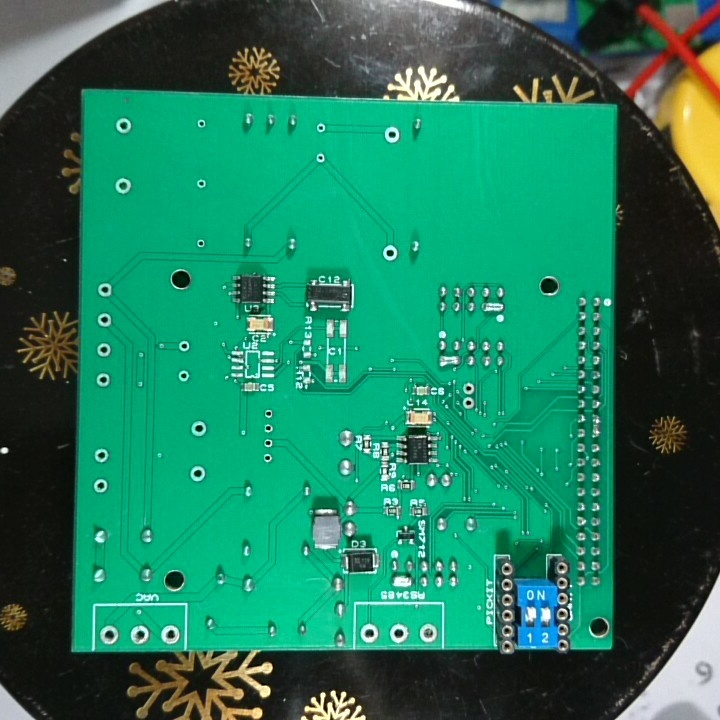F: (158, 622, 182, 646), (359, 620, 383, 644), (128, 624, 153, 646), (388, 621, 411, 644), (187, 418, 211, 439), (98, 624, 122, 645), (418, 621, 439, 644), (381, 123, 402, 145), (113, 116, 135, 137), (112, 176, 135, 196), (188, 463, 208, 484), (94, 370, 114, 390), (96, 280, 115, 300), (95, 311, 114, 331), (91, 446, 110, 466), (381, 242, 399, 263), (96, 340, 115, 359), (175, 366, 191, 385), (92, 477, 109, 494), (460, 394, 476, 411), (313, 150, 328, 168), (259, 449, 275, 465), (314, 120, 330, 135), (194, 176, 209, 192), (261, 434, 276, 450), (461, 379, 477, 394), (195, 115, 209, 132), (177, 337, 191, 354), (194, 235, 208, 251), (261, 406, 274, 420), (262, 421, 275, 434)
P: (588, 411, 604, 439), (388, 572, 414, 589), (479, 299, 507, 314), (435, 352, 461, 367)
